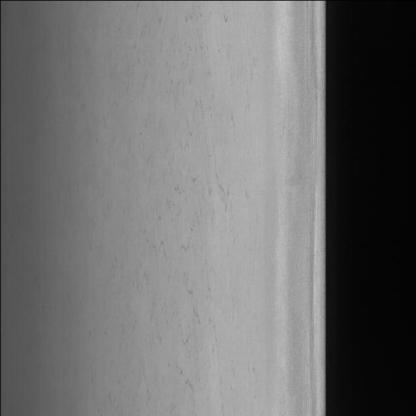silk_spot: (128, 38, 238, 377)
